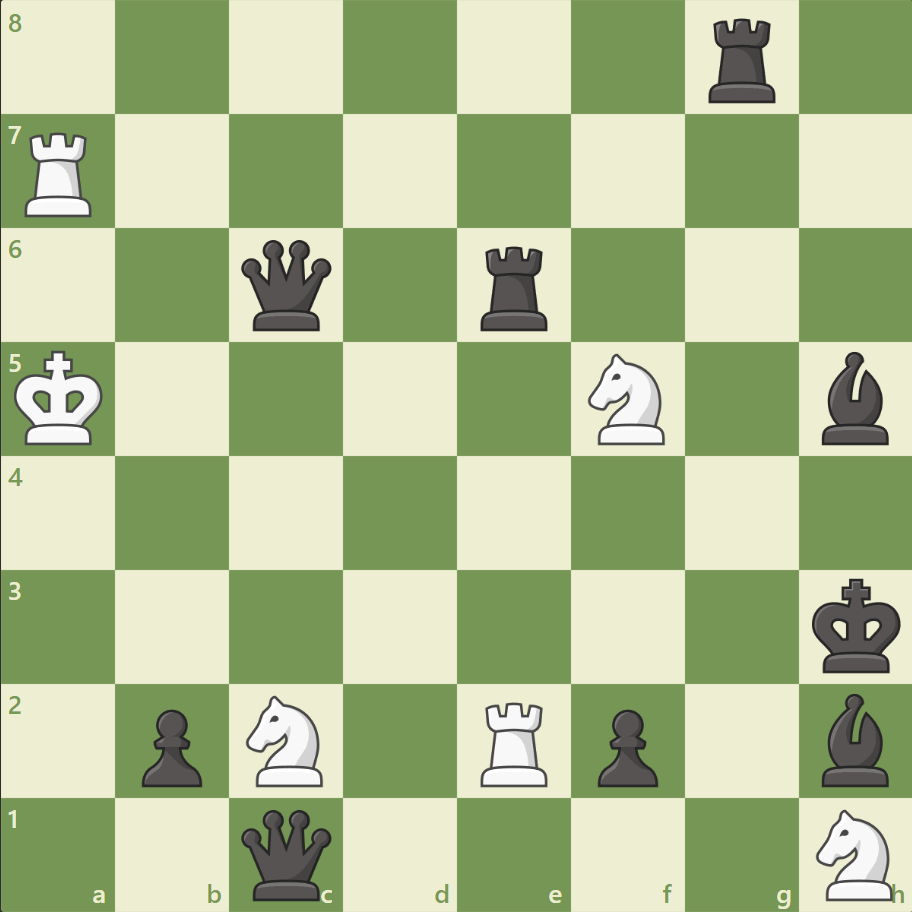K: (11, 344, 111, 452)
N: (238, 688, 335, 791), (579, 348, 676, 450), (806, 802, 903, 904)
R: (19, 125, 102, 222), (473, 693, 556, 790)
b: (812, 687, 896, 790), (812, 347, 896, 449)
k: (806, 571, 906, 679)
p: (133, 700, 208, 791), (588, 700, 662, 791)
q: (237, 236, 336, 335), (237, 804, 336, 903)
r: (700, 12, 783, 109), (473, 239, 556, 336)
